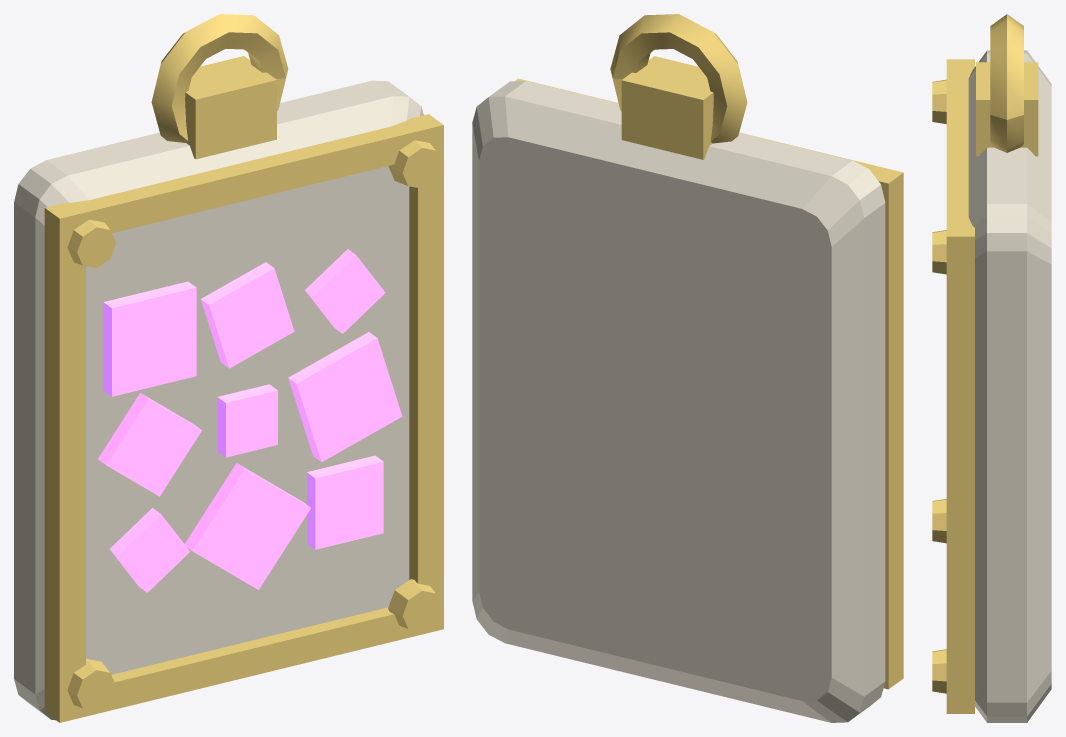
Rendered from pickups-and-collectibles-sigil-tablet-ba4efad8__19940.glb.
3 views of the same model, side by side, from view 1: azimuth 30°, elevation 25°; view 2: azimuth 150°, elevation 25°; view 3: azimuth 270°, elevation 25° (orthographic). The views are drawn at different scales.
Visible parts, largest first — view 1: body/bone, body/gold, body/arcane; view 2: body/bone, body/gold; view 3: body/bone, body/gold.
Part boxes in pixels (left/top/right/bottom): body/bone: left=14, top=80, right=423, bottom=720; body/gold: left=44, top=14, right=443, bottom=722; body/arcane: left=98, top=249, right=402, bottom=592; body/bone: left=472, top=81, right=885, bottom=722; body/gold: left=515, top=14, right=903, bottom=689; body/bone: left=968, top=50, right=1051, bottom=722; body/gold: left=932, top=14, right=1038, bottom=713.
Size of the model in its own units: 0.24 by 0.387 by 0.067.
